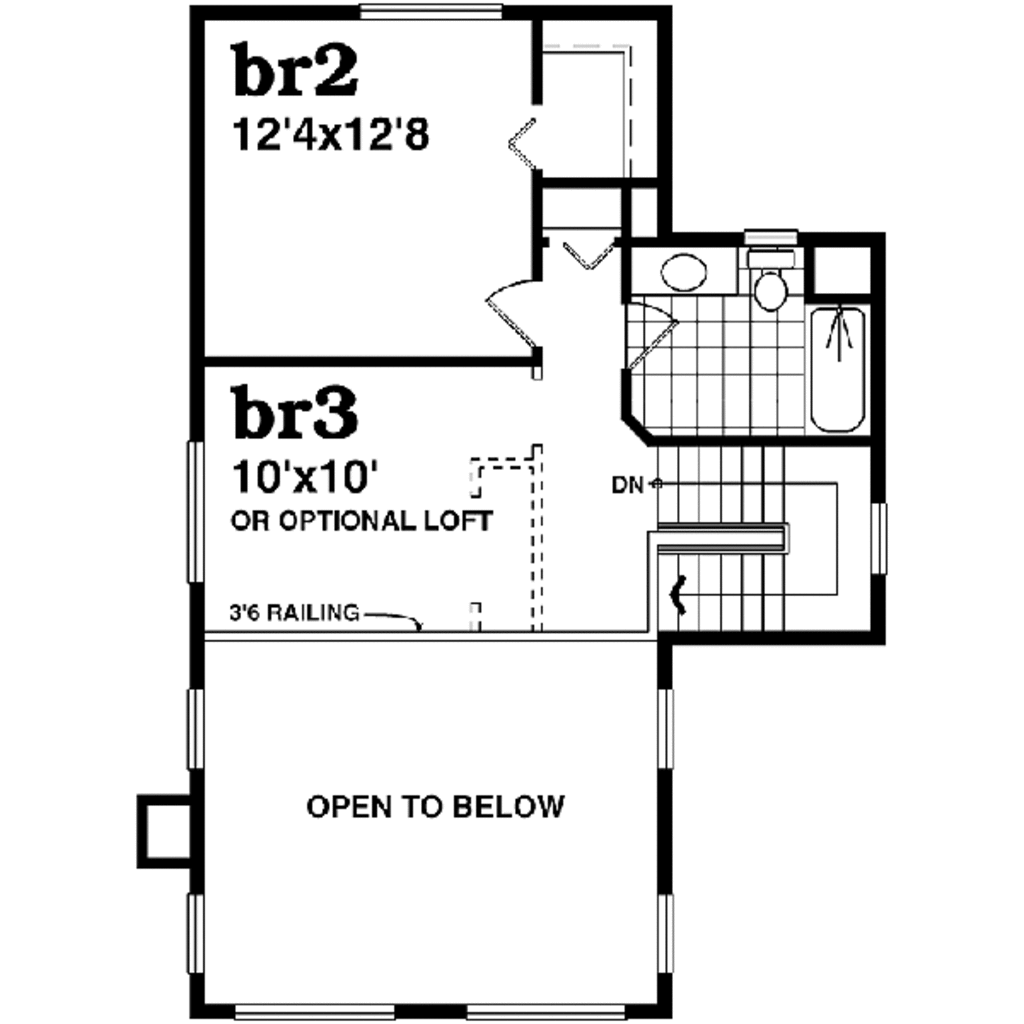door: (475, 266, 548, 355), (616, 297, 686, 374)
large_sink: (744, 233, 808, 317)
small_sink: (634, 242, 745, 302)
stairs: (634, 447, 869, 636)
tub: (806, 307, 877, 442)
window: (181, 438, 213, 586), (231, 1000, 401, 1024), (467, 1000, 632, 1019), (361, 3, 505, 21), (178, 692, 206, 771), (656, 683, 678, 769), (866, 500, 892, 569), (189, 894, 208, 982), (658, 892, 673, 966)
